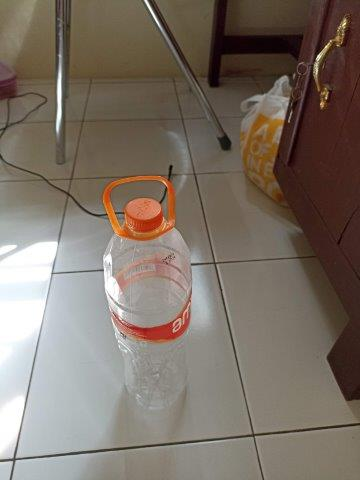botolplastik: (102, 198, 192, 410)
